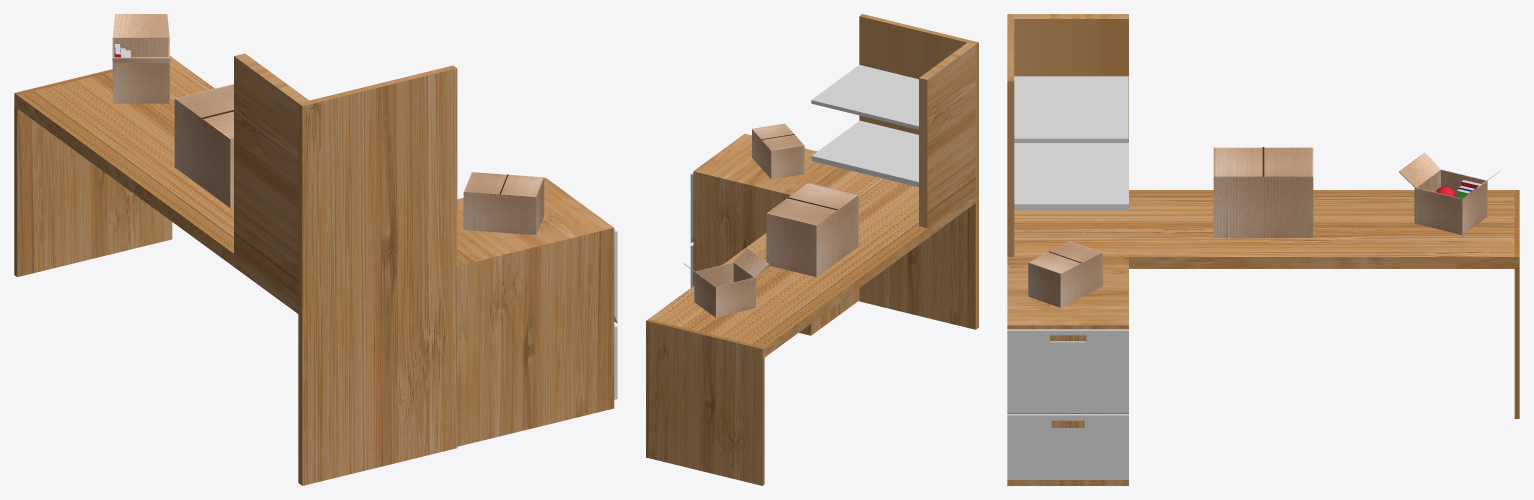
Rendered from Escritorio.fbx.
The picture shows the model from 3 angles, left to right: view 1: azimuth 30°, elevation 25°; view 2: azimuth 150°, elevation 25°; view 3: azimuth 270°, elevation 25°; orthographic projection. The views are drawn at different scales.
Visible parts, largest first — view 1: Cube, Cube.001, Cube.003, Cube.005; view 2: Cube, Cube.001, Cube.003, Cube.005; view 3: Cube, Cube.001, Cube.003, Cube.005.
Part boxes in pixels (x1,y1,x2,y2): Cube: [14, 53, 617, 485]; Cube.001: [174, 84, 233, 207]; Cube.003: [112, 14, 170, 103]; Cube.005: [463, 172, 544, 234]; Cube: [646, 14, 978, 485]; Cube.001: [766, 182, 858, 277]; Cube.003: [683, 248, 769, 317]; Cube.005: [752, 123, 804, 179]; Cube: [1007, 14, 1519, 485]; Cube.001: [1213, 147, 1313, 237]; Cube.003: [1399, 152, 1499, 234]; Cube.005: [1028, 241, 1102, 307].
Size of the model in its own units: 126 by 145 by 199.
Materials: 11 (4 with a texture image).
